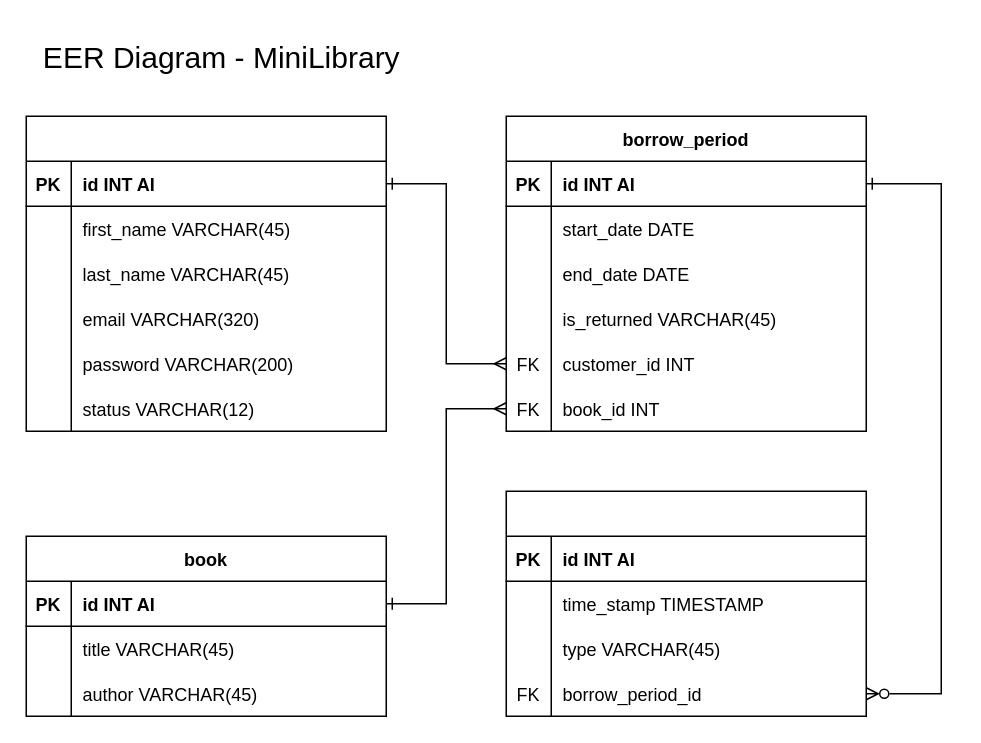
Some shapes in this 981 by 743 pixel diagram are drawn without their labels. Here are the shapes that lost their labels. From the top down, the box of each, then its label:
(25, 115, 386, 431): customer
(505, 490, 866, 716): notification
